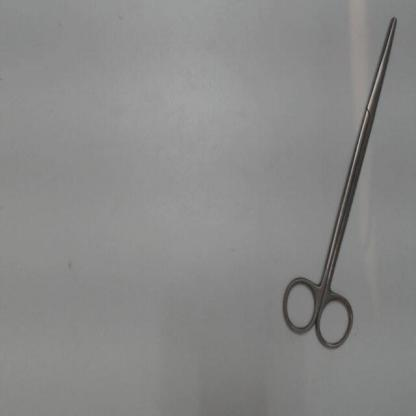9 Metzenbaum Scissors: (276, 12, 401, 359)
